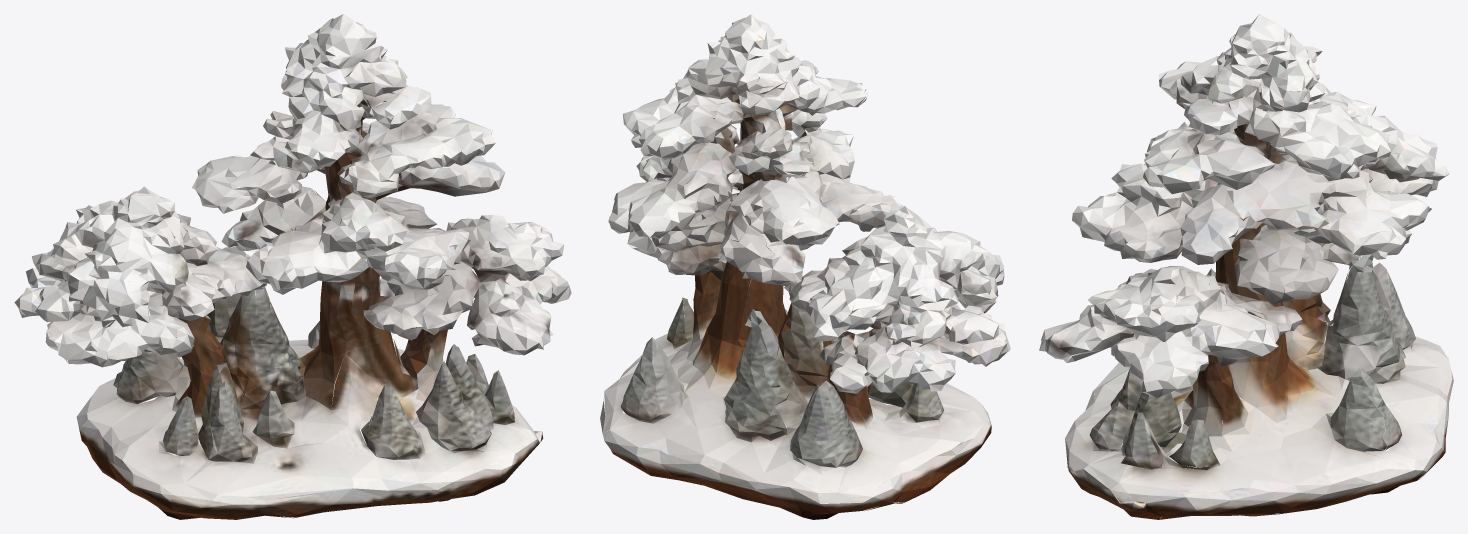
File: wt-outpost-snow-pines.glb
The picture shows the model from 3 angles, left to right: view 1: azimuth 30°, elevation 25°; view 2: azimuth 150°, elevation 25°; view 3: azimuth 270°, elevation 25°; orthographic projection. The views are drawn at different scales.
Parts seen in each view (by area): view 1: tmpa4_21b6i.ply; view 2: tmpa4_21b6i.ply; view 3: tmpa4_21b6i.ply.
Boxes of the visible parts, x1,y1,x2,y2 form: tmpa4_21b6i.ply: (14,14,571,519); tmpa4_21b6i.ply: (600,14,1010,519); tmpa4_21b6i.ply: (1039,14,1453,519).
Size of the model in its own units: 8.1 by 7.55 by 6.2.
Materials: 1 (1 with a texture image).
